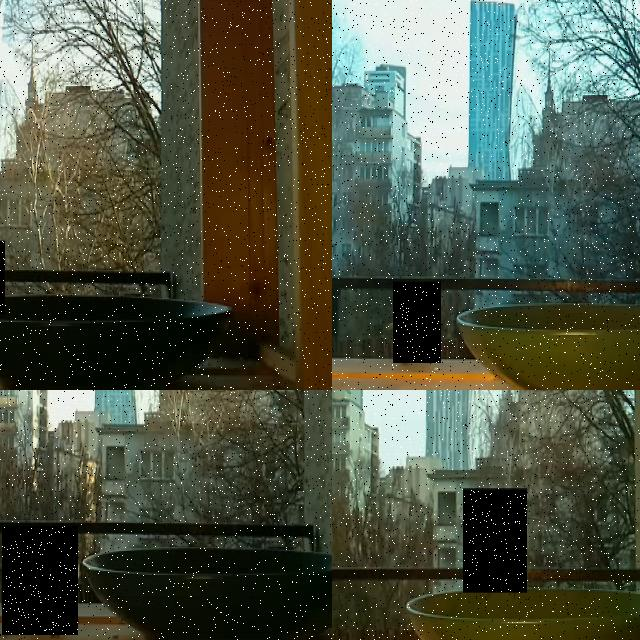Bogatka: (463, 488, 527, 592)
Modraszka: (2, 526, 78, 635), (393, 282, 441, 363)
